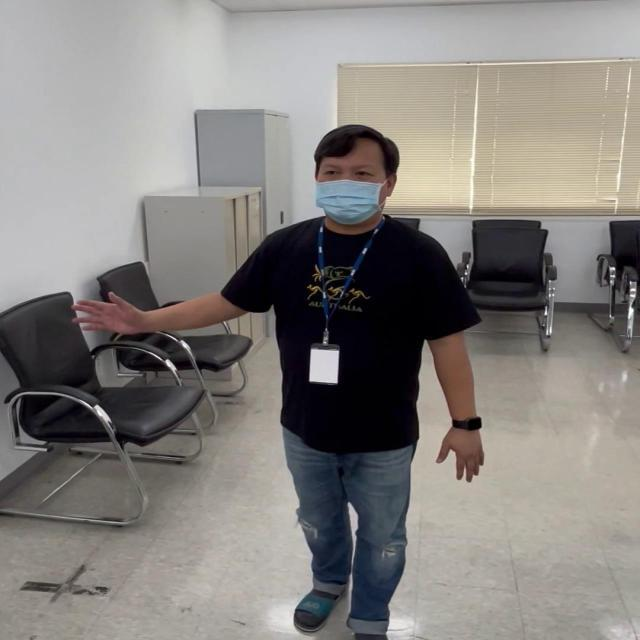bare_hand: (69, 287, 148, 341), (433, 420, 487, 484)
